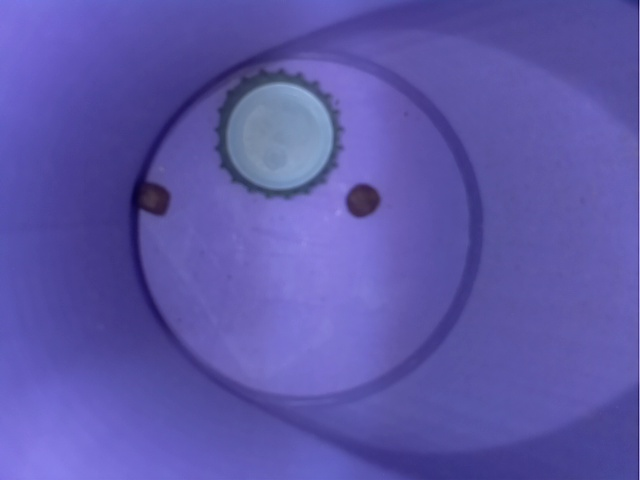capsule: (207, 57, 350, 204)
croquette: (338, 174, 395, 226), (126, 173, 178, 224)
